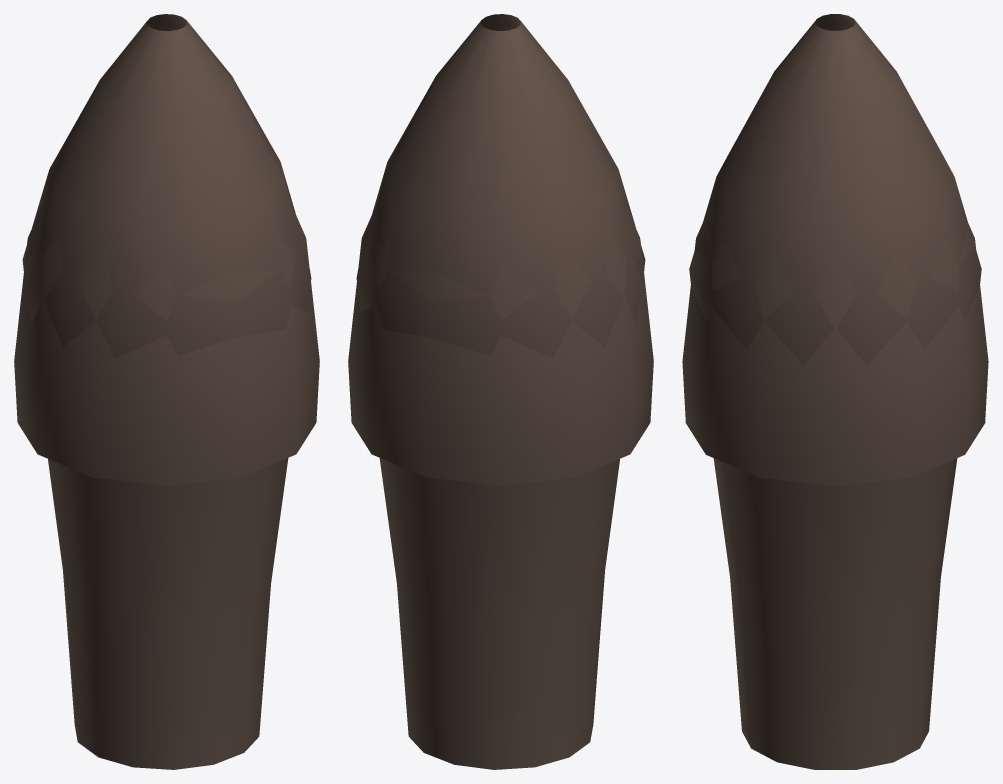
The model's file is boot.glb.
The picture shows the model from 3 angles, left to right: view 1: azimuth 30°, elevation 25°; view 2: azimuth 150°, elevation 25°; view 3: azimuth 270°, elevation 25°; orthographic projection.
Parts seen in each view (by area): view 1: BootLeather, BootSole; view 2: BootLeather, BootSole; view 3: BootLeather, BootSole.
Boxes of the visible parts, bbox=[...] form: BootLeather: bbox=[22, 14, 311, 769]; BootSole: bbox=[14, 26, 319, 485]; BootLeather: bbox=[356, 14, 645, 769]; BootSole: bbox=[348, 26, 653, 485]; BootLeather: bbox=[689, 14, 981, 769]; BootSole: bbox=[682, 26, 988, 486].
Bounding box in the file's own units: 0.18 × 0.46 × 0.18.
